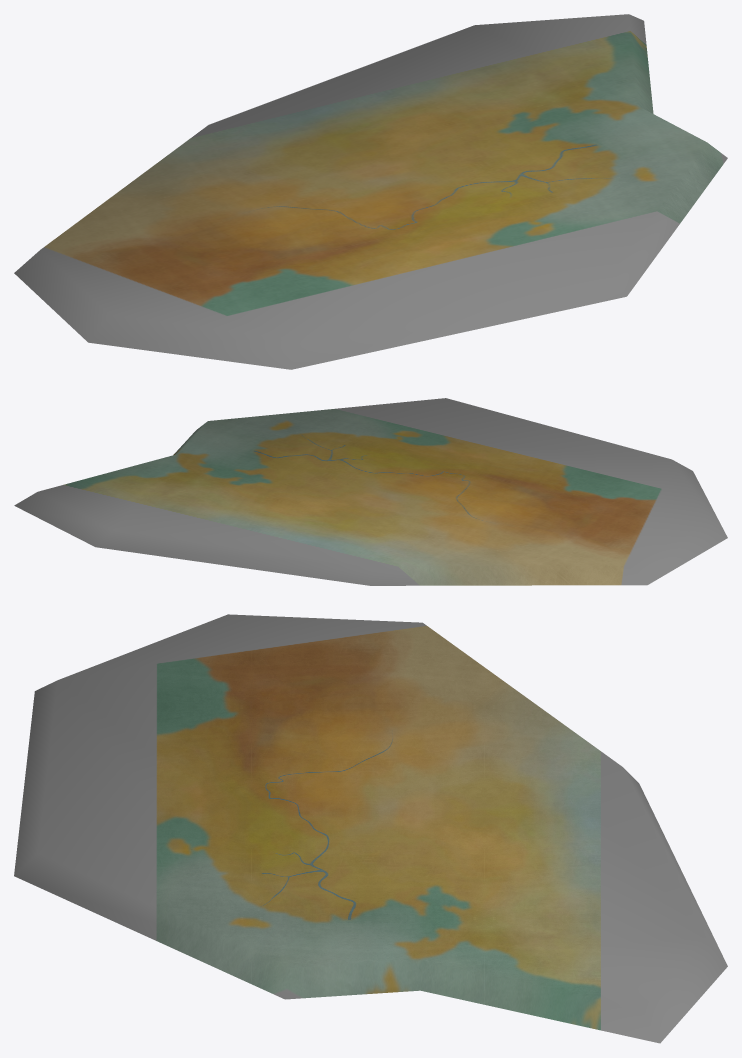
Rendered from hainan.FBX.
The picture shows the model from 3 angles, top to bottom: view 1: azimuth 30°, elevation 25°; view 2: azimuth 150°, elevation 25°; view 3: azimuth 270°, elevation 25°; orthographic projection. The views are drawn at different scales.
Visible parts, largest first — view 1: 对象001; view 2: 对象001; view 3: 对象001.
Boxes of the visible parts, <box> form: 对象001: <box>14,14,727,369</box>; 对象001: <box>14,398,727,585</box>; 对象001: <box>14,614,727,1043</box>.
Size of the model in its own units: 3.89 by 0.0901 by 2.78.
